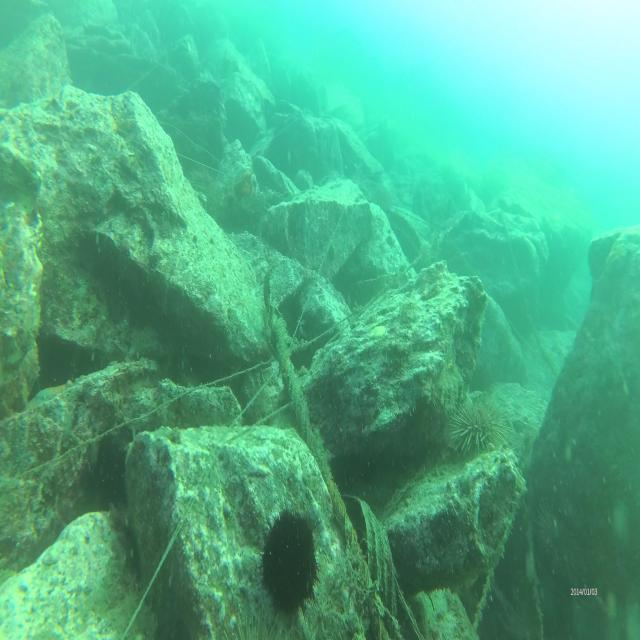echinus: (252, 496, 322, 630), (532, 492, 588, 586), (449, 387, 510, 458)
